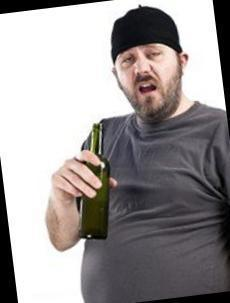Drunk: (120, 49, 177, 113)
